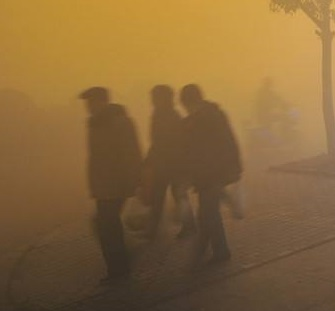person: (75, 86, 146, 288), (178, 83, 243, 268), (141, 83, 199, 242), (246, 77, 303, 157)
